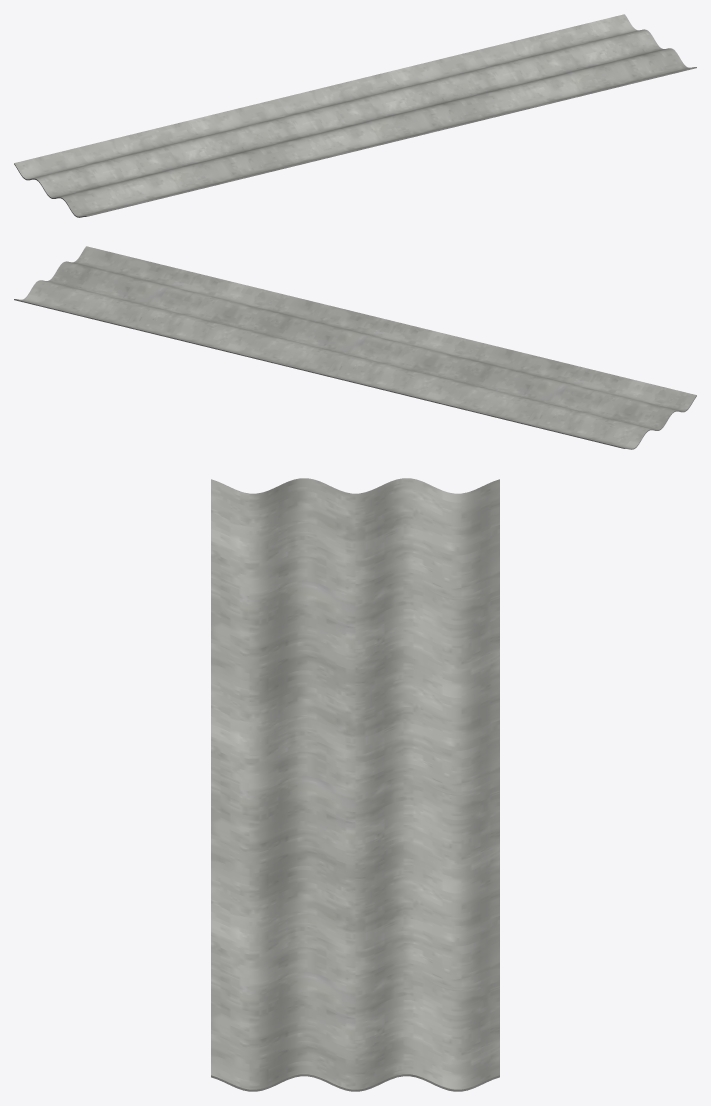
The model's file is COB-FIB-001_lod1.glb.
3 renders of one model, top to bottom at view 1: azimuth 30°, elevation 25°; view 2: azimuth 150°, elevation 25°; view 3: azimuth 270°, elevation 25°, orthographic. The views are drawn at different scales.
Visible parts, largest first — view 1: COB-FIB-001_chapa; view 2: COB-FIB-001_chapa; view 3: COB-FIB-001_chapa.
Part boxes in pixels (box(x1,y1,x2,y2)): COB-FIB-001_chapa: box(14, 14, 696, 217); COB-FIB-001_chapa: box(14, 246, 696, 449); COB-FIB-001_chapa: box(211, 478, 499, 1091).
Size of the model in its own units: 2.44 by 0.0335 by 0.5.
Materials: 1 (1 with a texture image).
